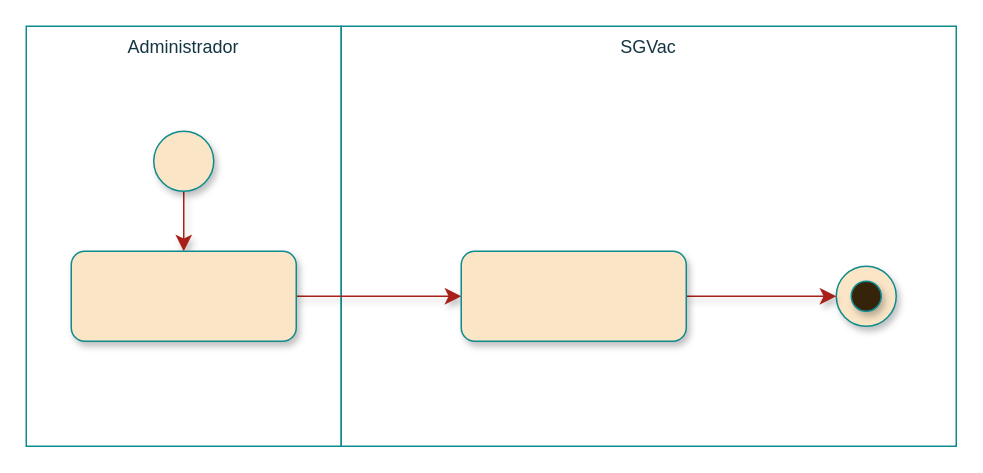
Some shapes in this 983 by 473 pixel diagram are drawn without their labels. Here are the shapes that lost their labels. From the top down, the centre of each, then its label:
At point 184,298: "Elige la opción de inactivar un postulante".
At point 574,298: "Inactiva el postulante".
